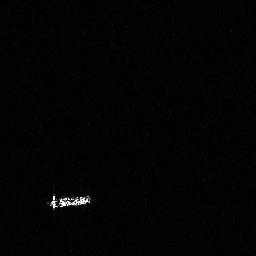ship: (45, 191, 93, 213)
